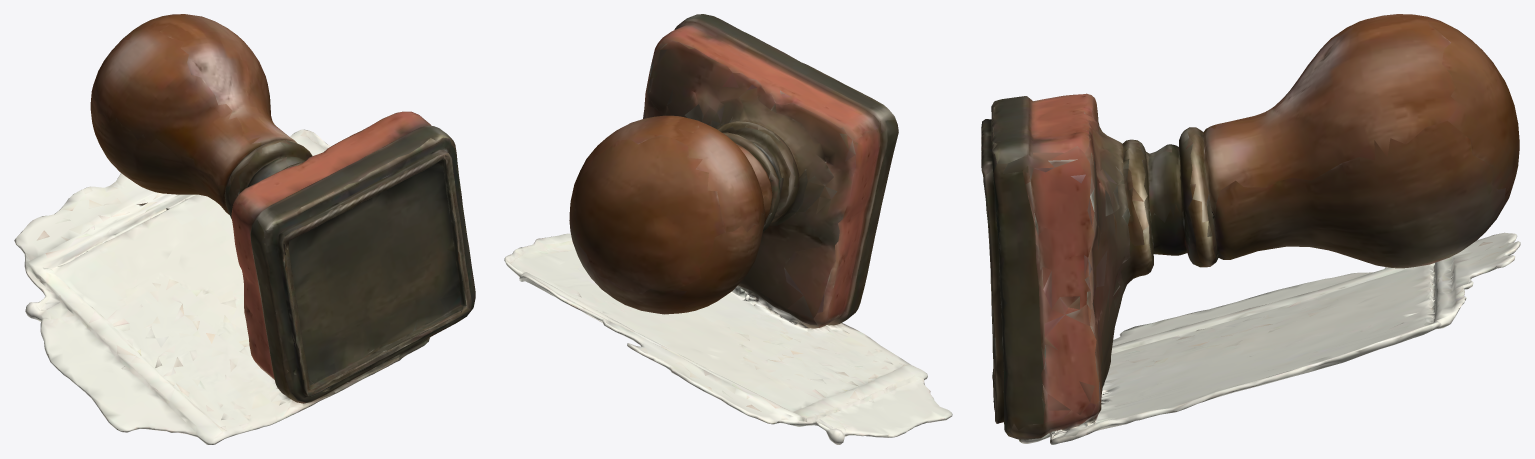
File: sc-corner-seal.glb
The picture shows the model from 3 angles, left to right: view 1: azimuth 30°, elevation 25°; view 2: azimuth 150°, elevation 25°; view 3: azimuth 270°, elevation 25°; orthographic projection. The views are drawn at different scales.
Visible parts, largest first — view 1: geometry_0; view 2: geometry_0; view 3: geometry_0.
Boxes of the visible parts, x1,y1,x2,y2 form: geometry_0: (14, 14, 475, 444); geometry_0: (504, 14, 952, 444); geometry_0: (981, 14, 1520, 444).
Bounding box in the file's own units: 0.976 × 0.8558 × 1.
Materials: 1 (1 with a texture image).
